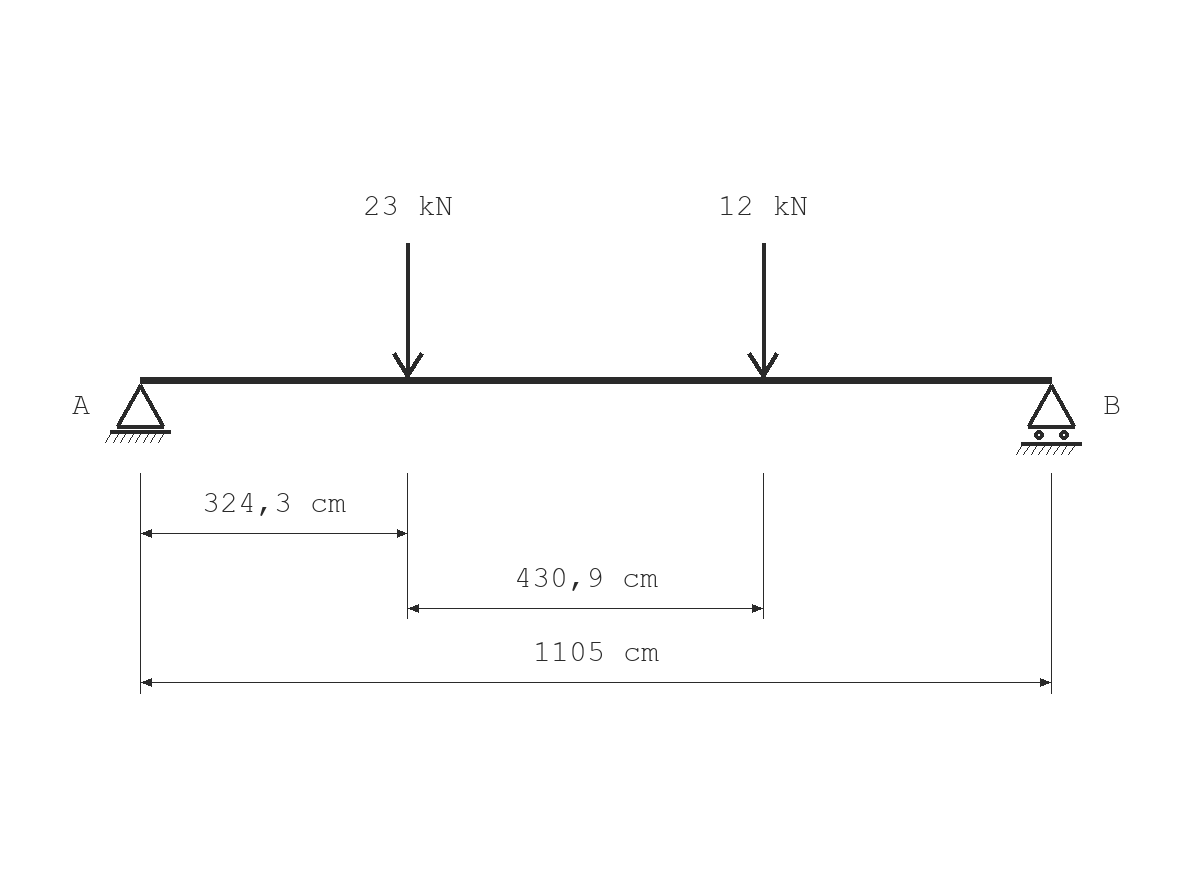pin_support: (105, 384, 171, 443)
point_load: (392, 243, 424, 378), (747, 243, 779, 378)
roller_support: (1016, 384, 1082, 455)
